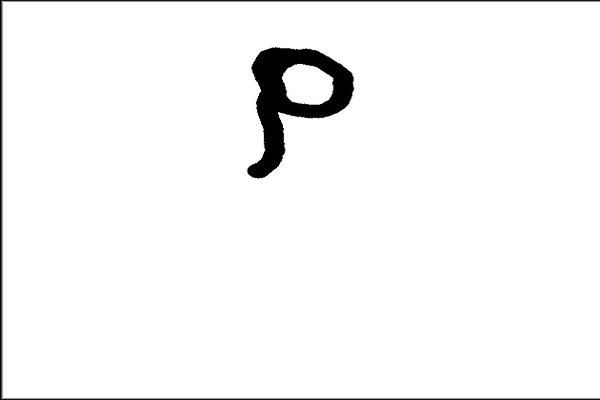P: (232, 31, 360, 190)
